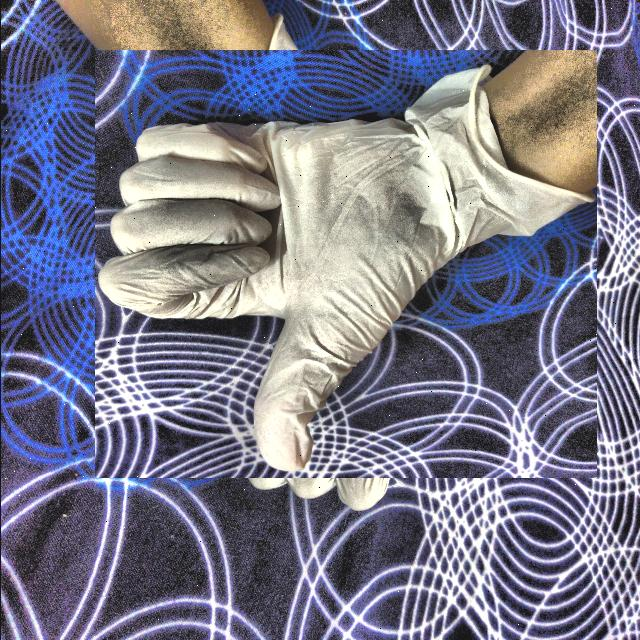gloved: (112, 31, 577, 497)
